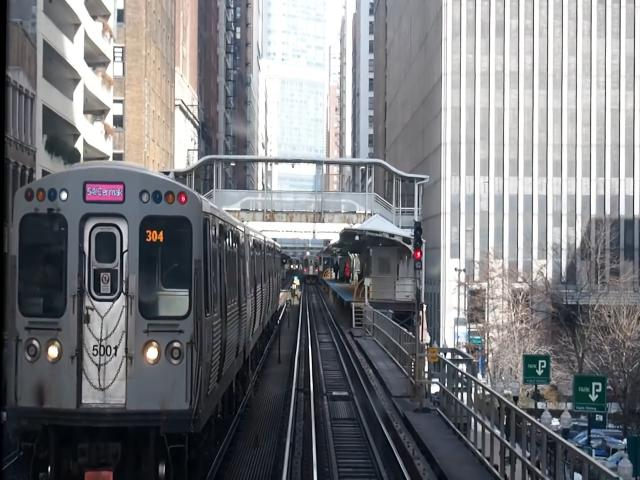signal light: (413, 219, 427, 275)
